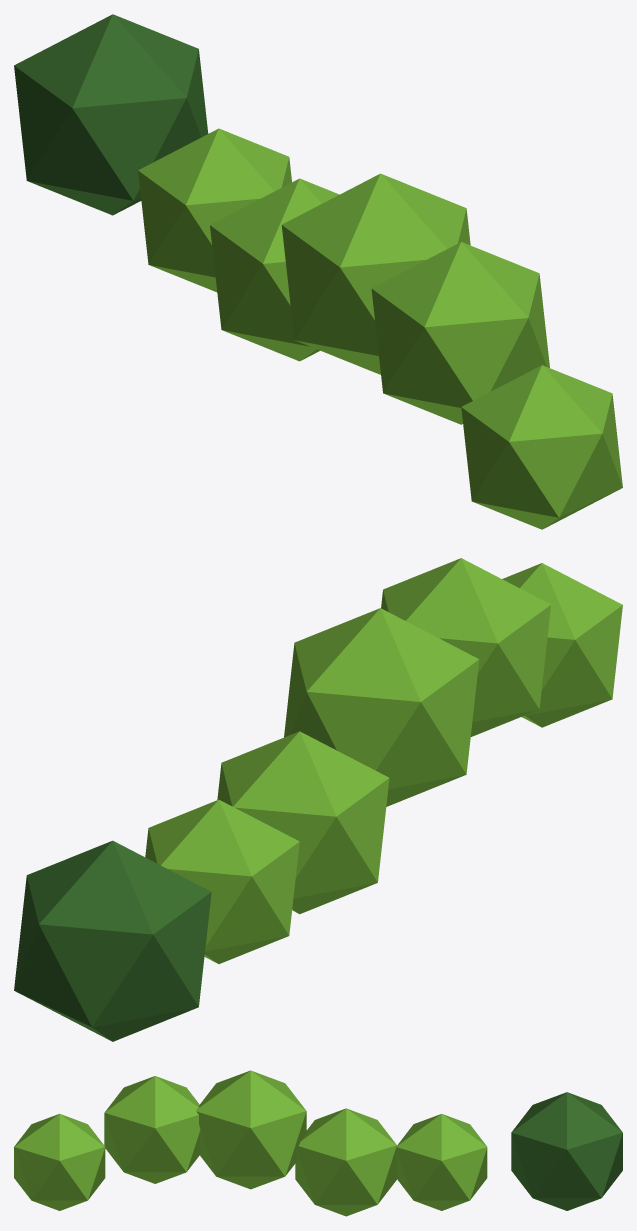
File: caterpillar.glb
3 views of the same model, one above another, from view 1: azimuth 30°, elevation 25°; view 2: azimuth 150°, elevation 25°; view 3: azimuth 270°, elevation 25° (orthographic). The views are drawn at different scales.
Visible parts, largest first — view 1: caterpillar; view 2: caterpillar; view 3: caterpillar.
Boxes of the visible parts, bbox=[...] form: caterpillar: bbox=[14, 14, 622, 529]; caterpillar: bbox=[14, 558, 622, 1041]; caterpillar: bbox=[14, 1070, 622, 1216].
Bounding box in the file's own units: 0.0197 × 0.027 × 0.102.
